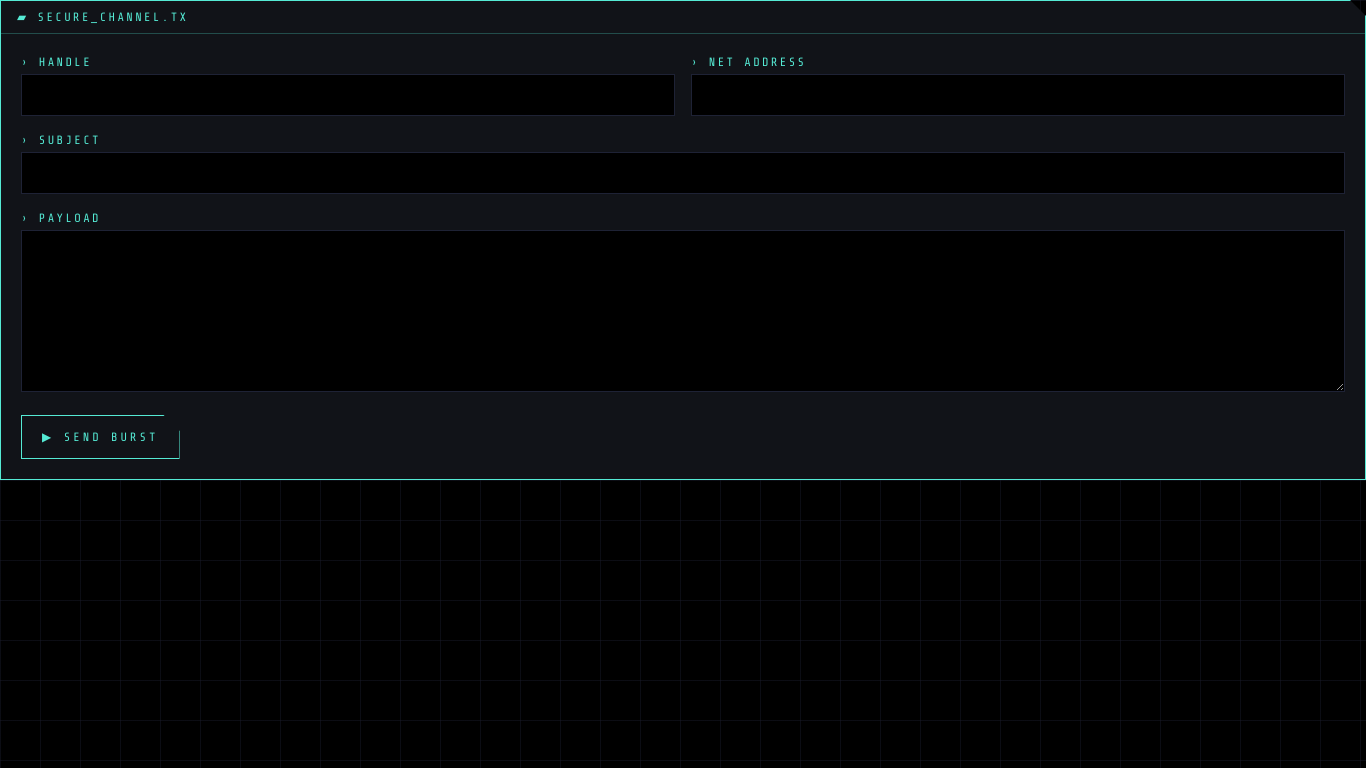
Test: ContactForm — edge cases › shows 422 error message from backend on submit
The width and height of the screenshot is (1366, 768).
Type "Alice Test" into the field labelled "› Handle".
click(348, 95); type("Alice Test")  # box [21, 74, 675, 116]
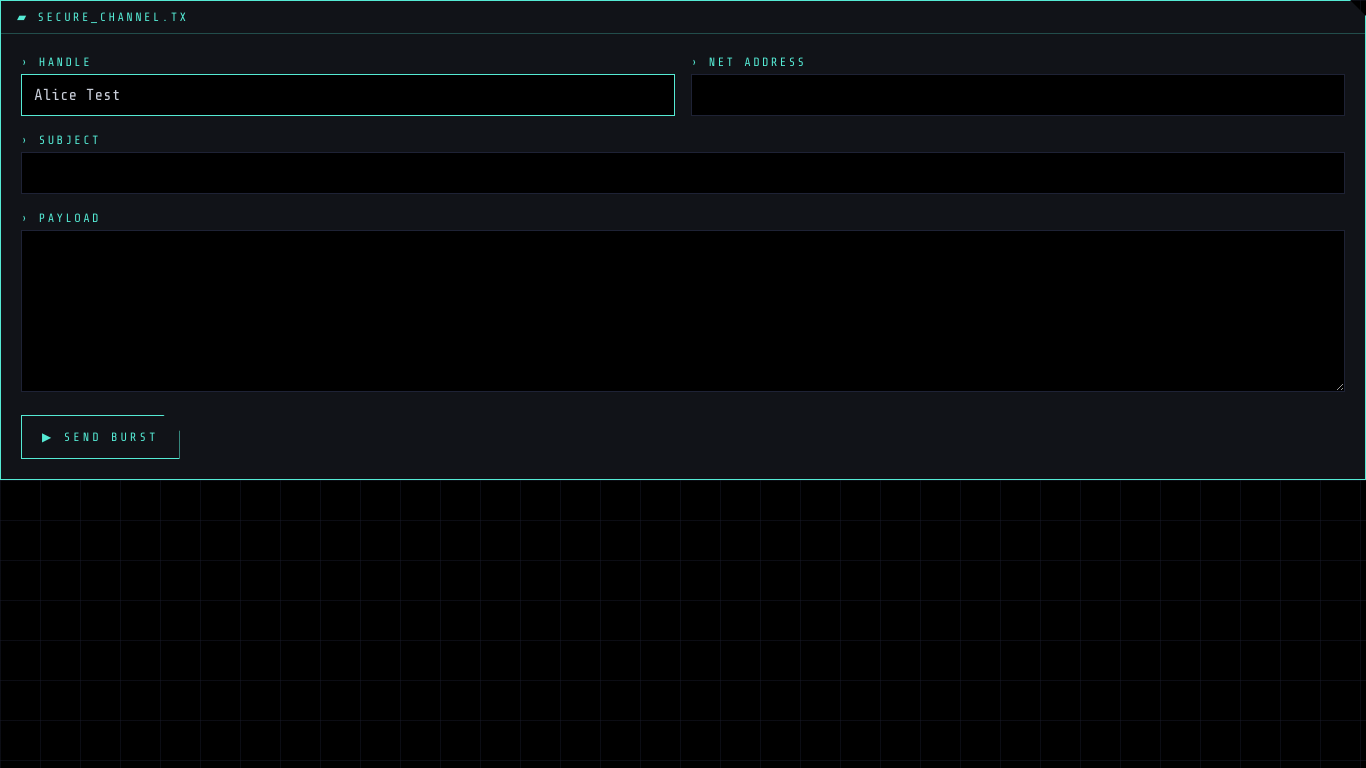
Type "user@mailinator.com" into the field labelled "› Net Address".
click(1018, 95); type("user@mailinator.com")  # box [691, 74, 1345, 116]
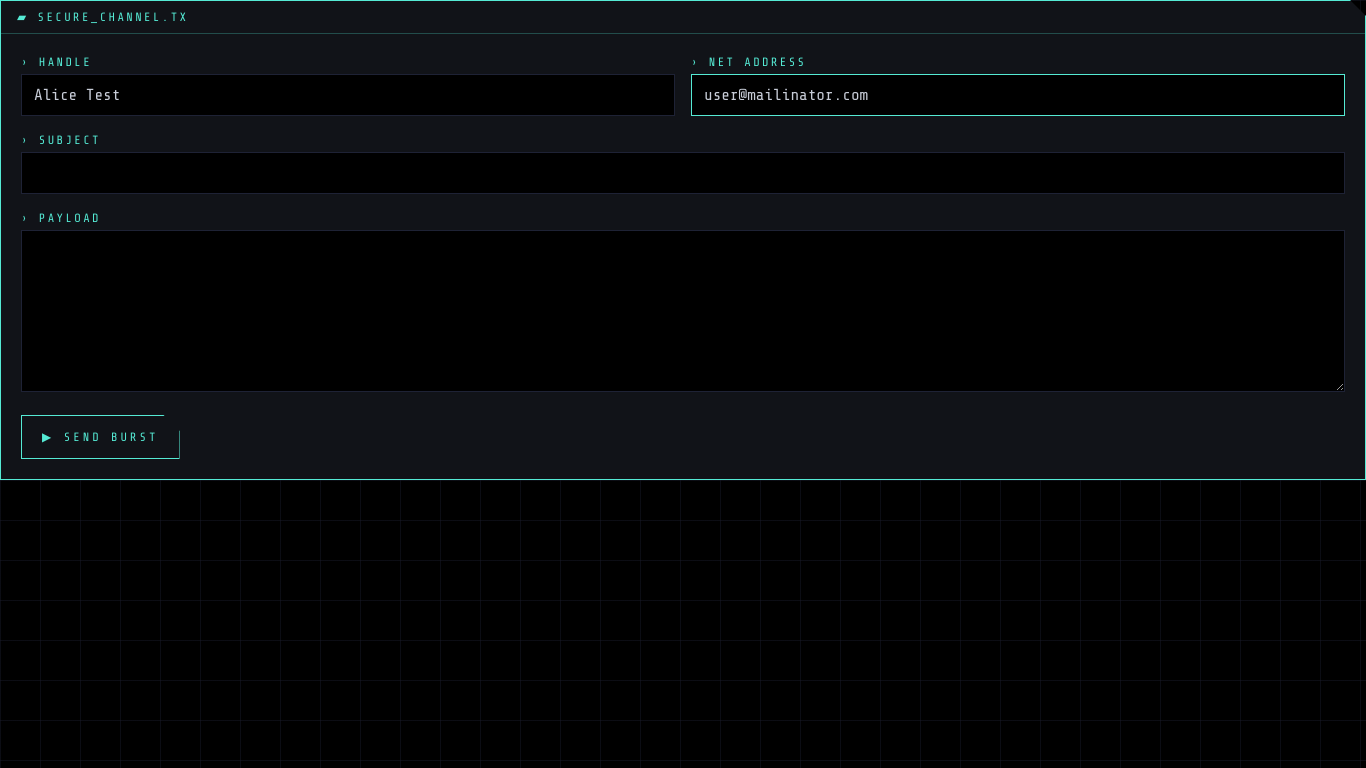
Type "Test Subject" into the field labelled "› Subject".
click(683, 173); type("Test Subject")  # box [21, 152, 1345, 194]
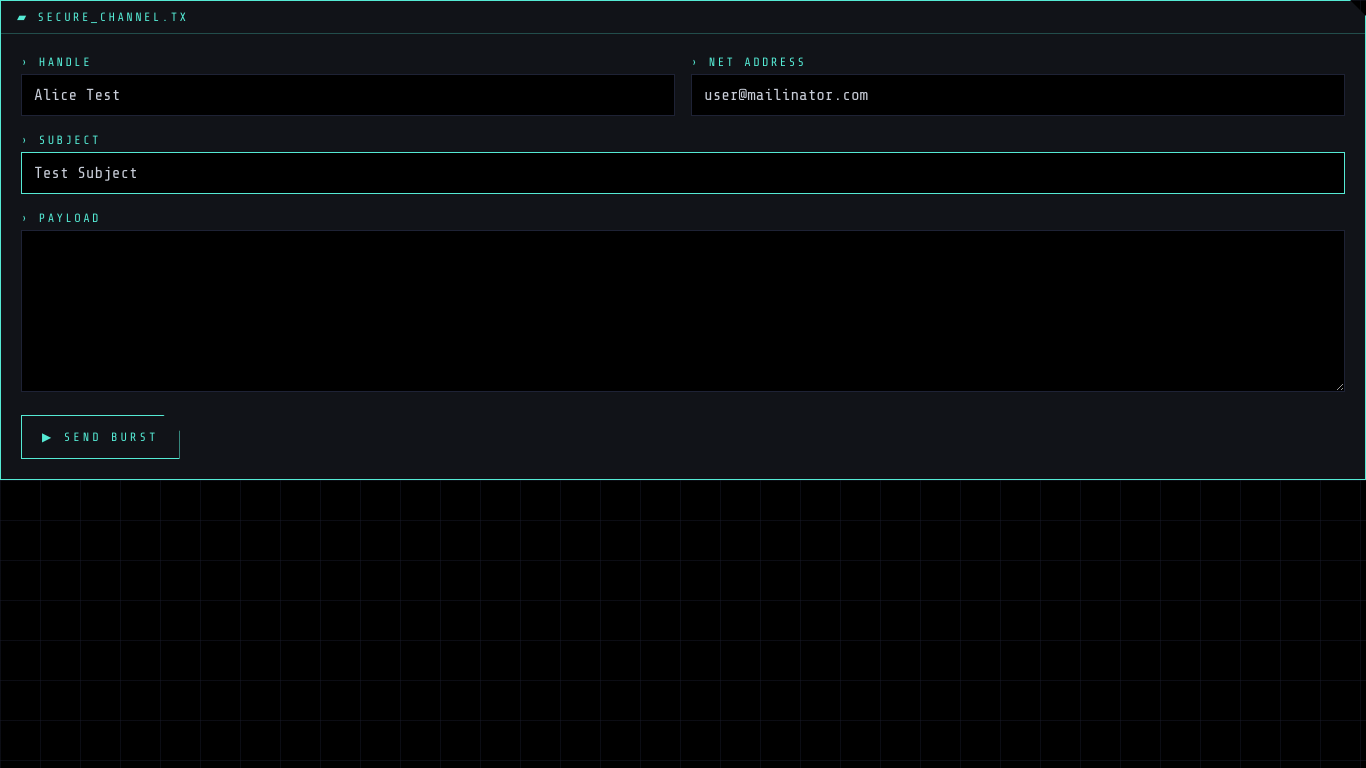
Type "Body content here" into the text box labelled "› Payload".
click(683, 311); type("Body content here")  # box [21, 230, 1345, 392]
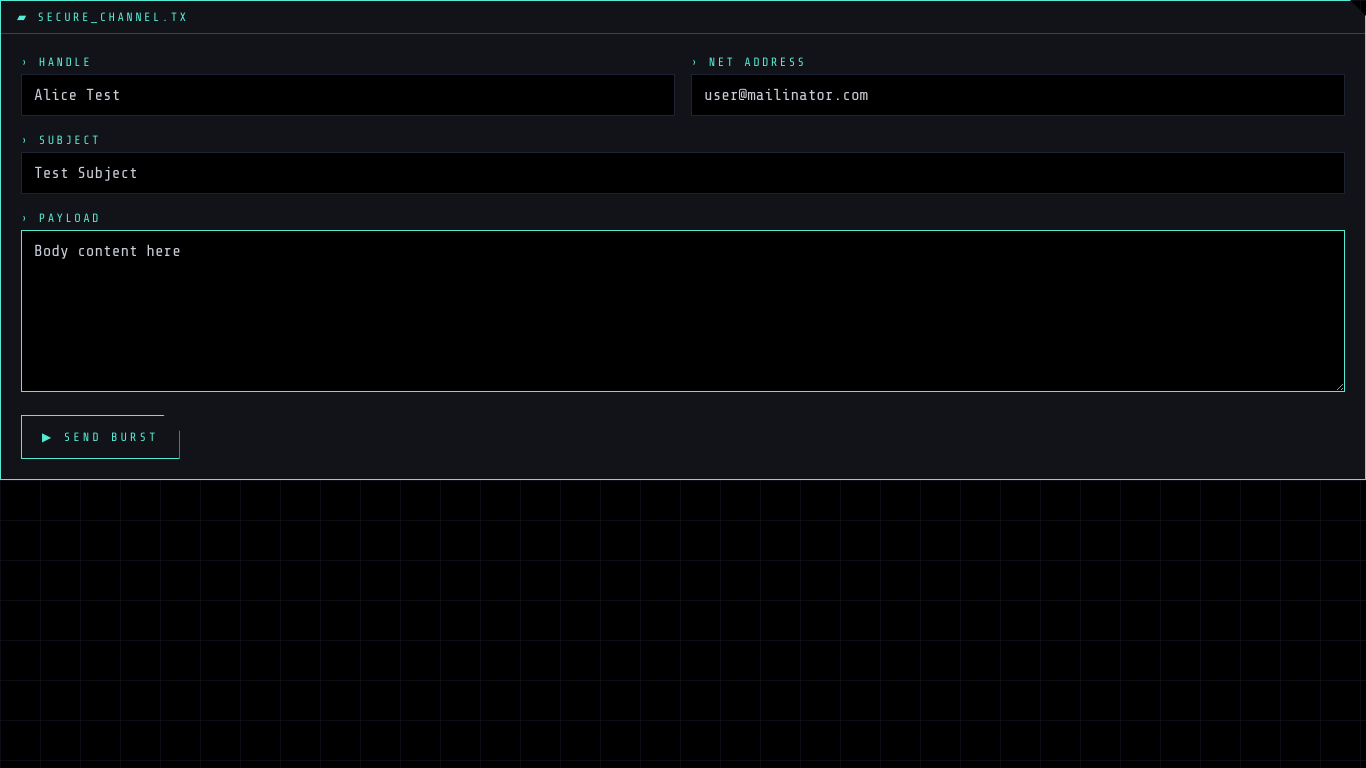
Click the button "▶ Send Burst".
click(100, 437)  # box [21, 415, 180, 459]
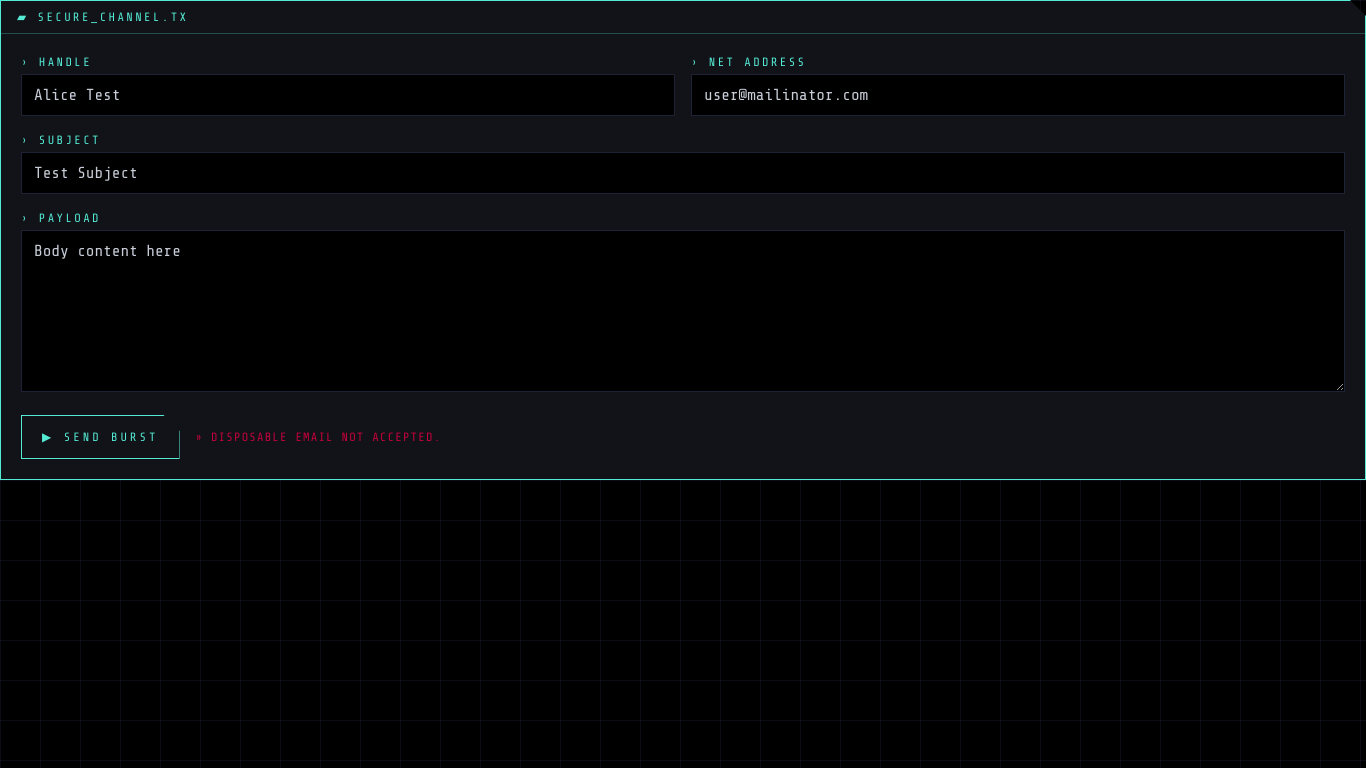
Result: the text "» Disposable email not accepted." is shown at [196, 429, 441, 445]
